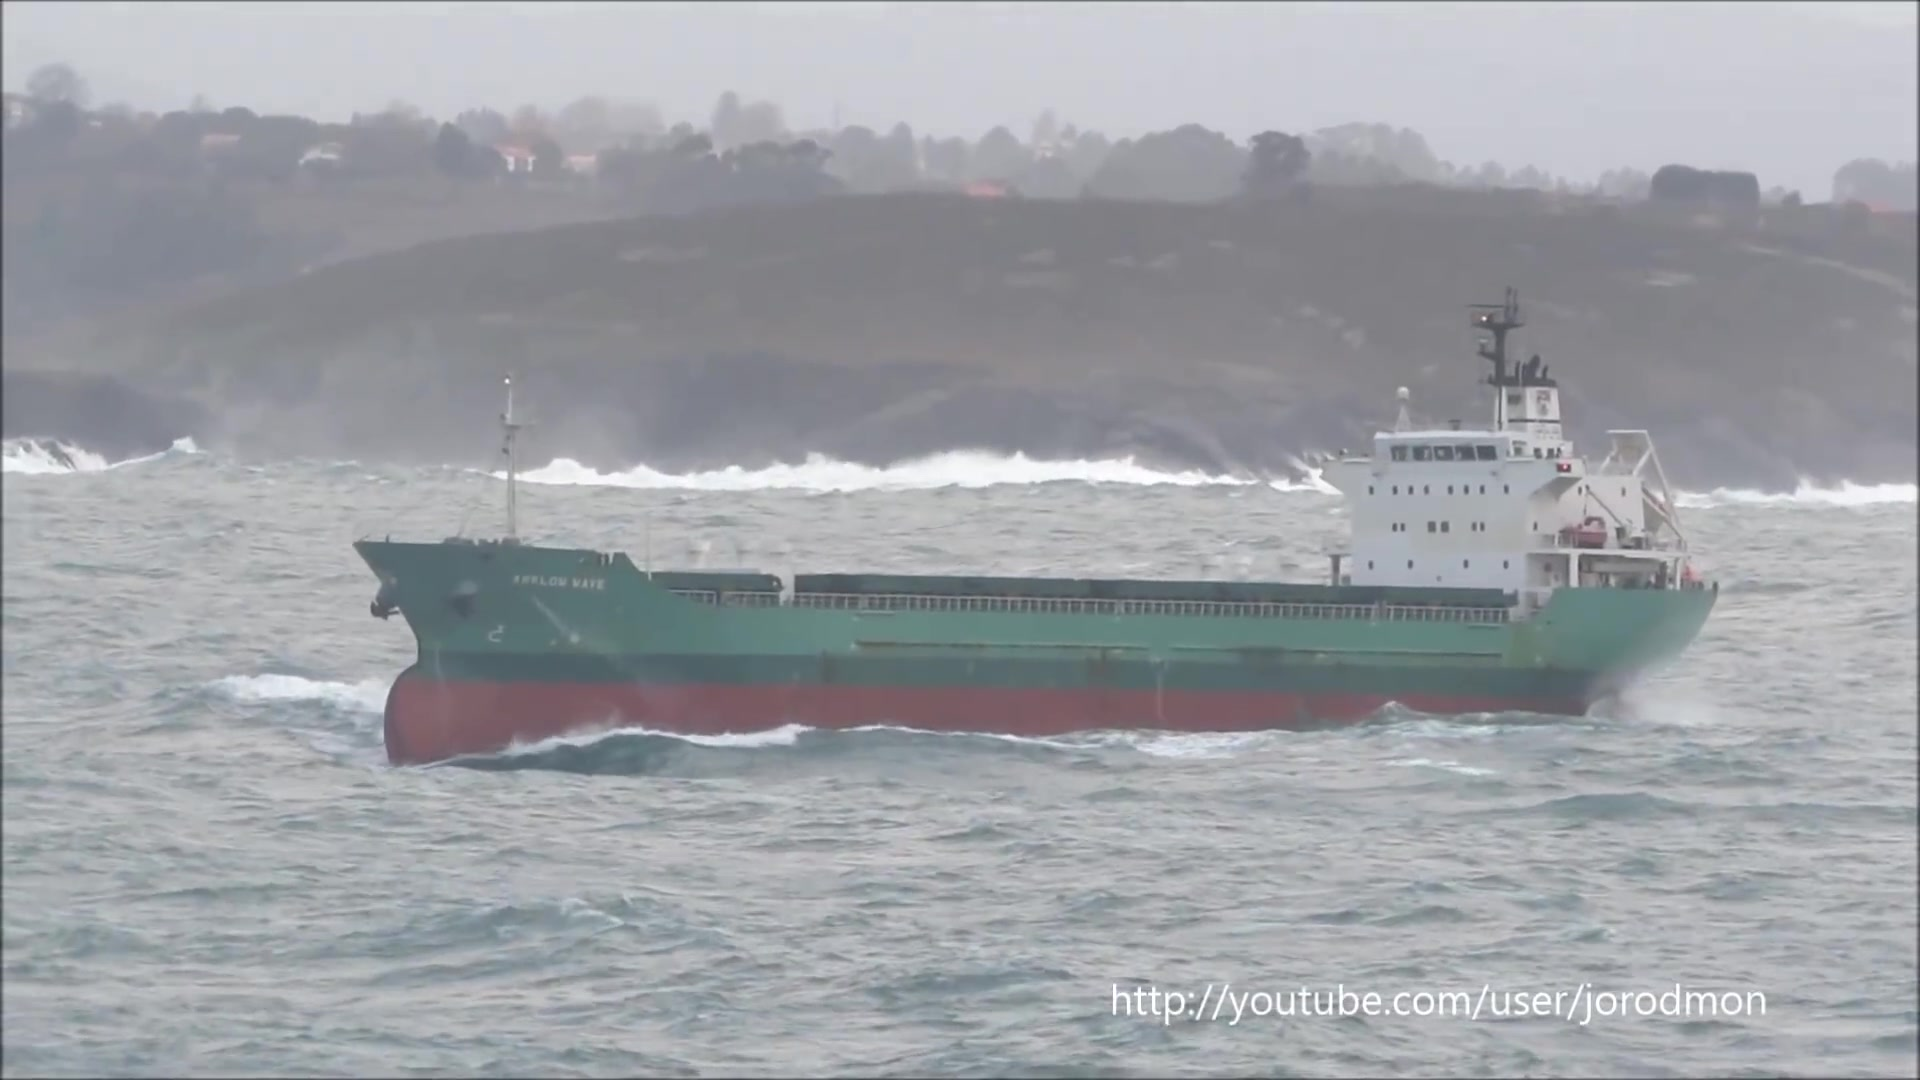CommonShip: (335, 298, 1724, 766)
